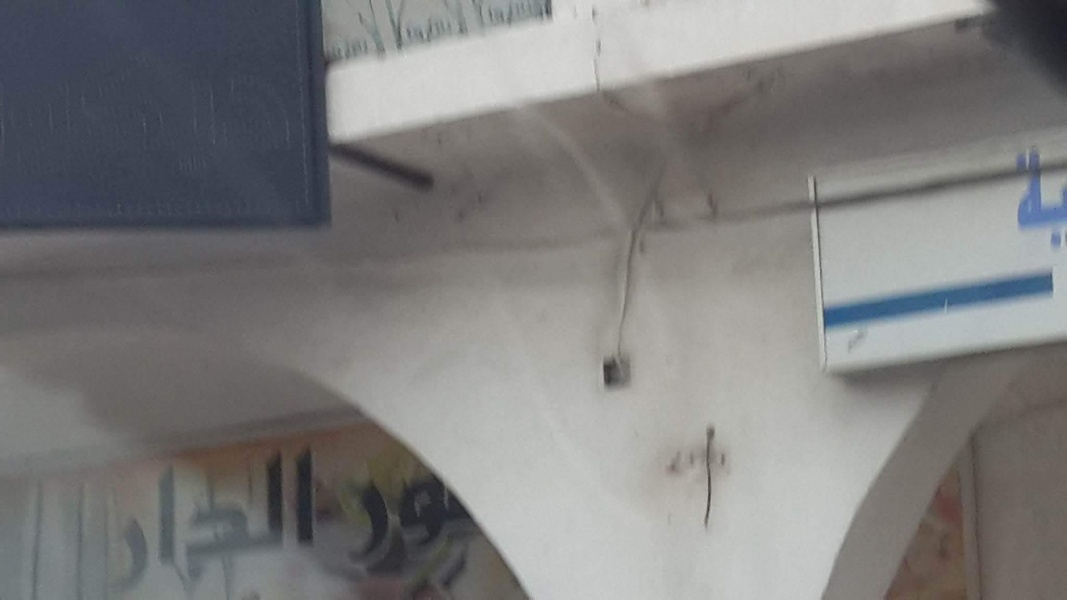text: (113, 435, 128, 598), (129, 435, 144, 598), (145, 435, 160, 598), (161, 435, 176, 598), (177, 435, 192, 598), (193, 435, 208, 598), (209, 435, 224, 598), (225, 435, 240, 598), (241, 435, 256, 598), (257, 435, 272, 598), (273, 435, 288, 598), (289, 435, 304, 598), (305, 435, 320, 598), (17, 48, 32, 188), (33, 48, 48, 188), (49, 48, 64, 188), (65, 48, 80, 188), (81, 48, 96, 188), (97, 48, 112, 188), (113, 48, 128, 188), (129, 48, 144, 188), (145, 48, 160, 188), (161, 48, 176, 188), (177, 48, 192, 188), (193, 48, 208, 188), (209, 48, 224, 188), (225, 48, 240, 188), (241, 48, 256, 188), (257, 48, 272, 188), (273, 48, 288, 188), (289, 48, 303, 188), (1025, 144, 1040, 257), (1041, 144, 1056, 257), (353, 463, 368, 576), (369, 463, 384, 576), (385, 463, 400, 576), (401, 463, 416, 576), (417, 463, 432, 576), (433, 463, 448, 576), (449, 463, 464, 576), (1010, 144, 1024, 257), (340, 463, 352, 576), (104, 435, 112, 598), (7, 48, 16, 188), (321, 435, 328, 598), (1057, 144, 1066, 257), (465, 463, 469, 576)
